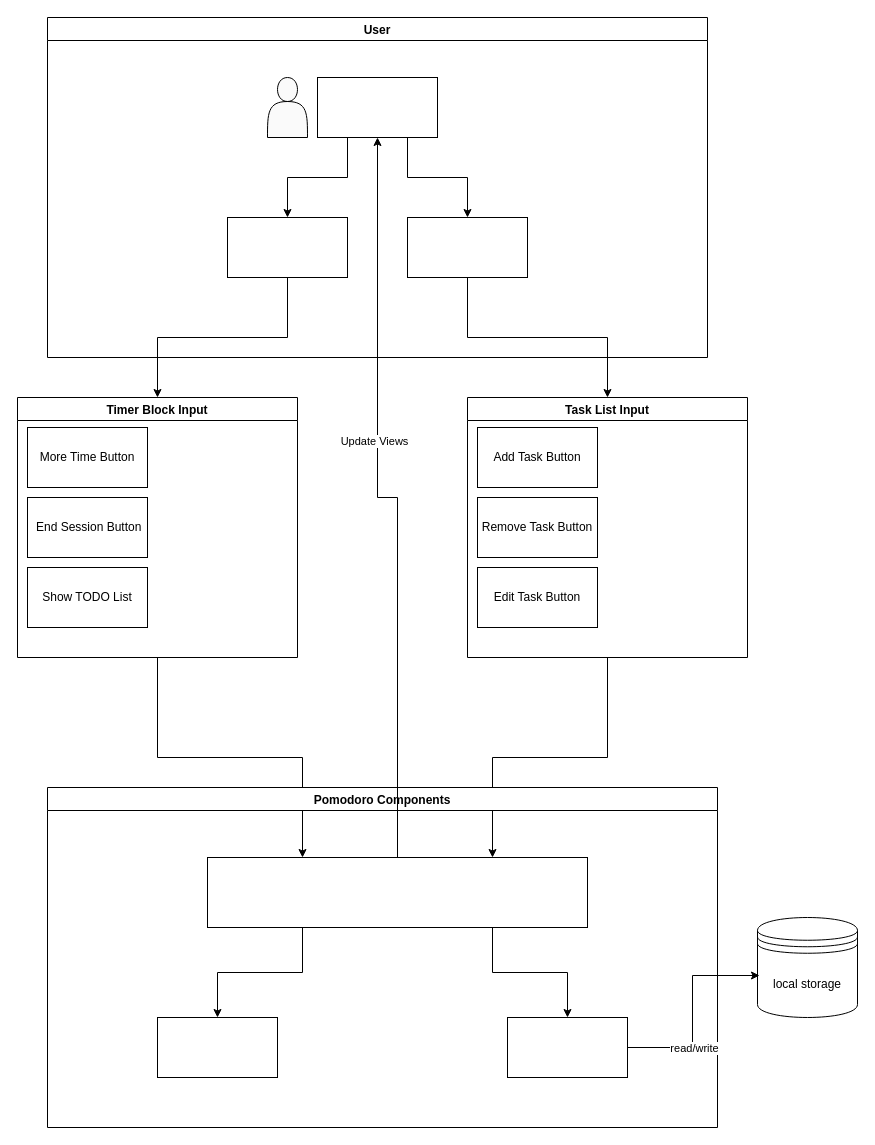
Image size: 875x1145. Some labels were removed from this diagram. Here are the shapes that lost their labels. From the top down, the centre of each, then its label:
At (377,107): "HTML/CSS".
At (287,247): "Timer Block".
At (467,247): "Task List Block".
At (397,892): "Session Script".
At (217,1047): "Timer Class".
At (567,1047): "Task List Class".
